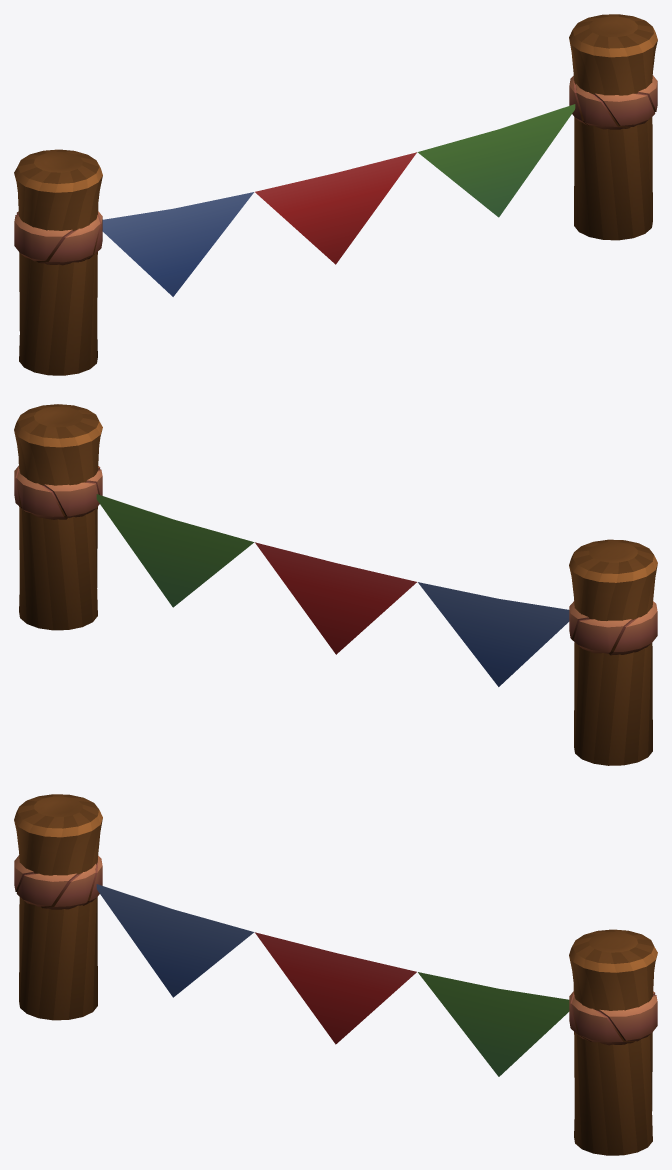
The model's file is Deco-1-2.fbx.
The picture shows the model from 3 angles, top to bottom: view 1: azimuth 30°, elevation 25°; view 2: azimuth 150°, elevation 25°; view 3: azimuth 330°, elevation 25°; orthographic projection.
Parts seen in each view (by area): view 1: Deco-1-2; view 2: Deco-1-2; view 3: Deco-1-2.
Part boxes in pixels (x1=…): Deco-1-2: x1=14, y1=14, x2=657, y2=375; Deco-1-2: x1=14, y1=404, x2=657, y2=765; Deco-1-2: x1=14, y1=794, x2=657, y2=1155.
Size of the model in its own units: 346 by 103 by 42.16.
